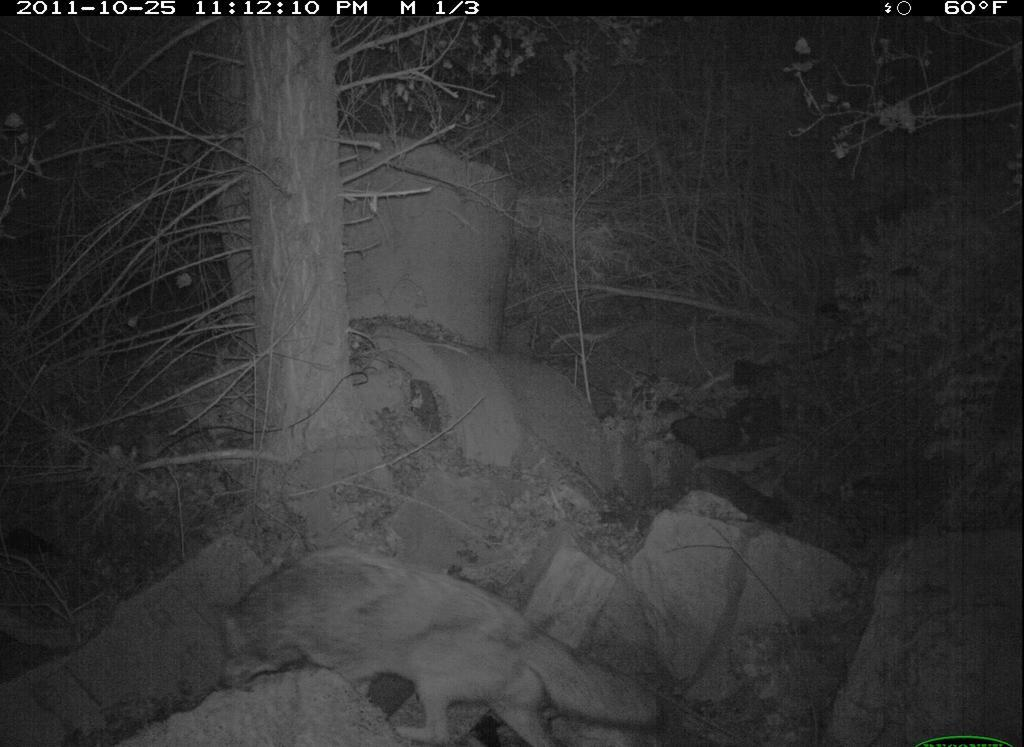coyote: (198, 539, 670, 747)
